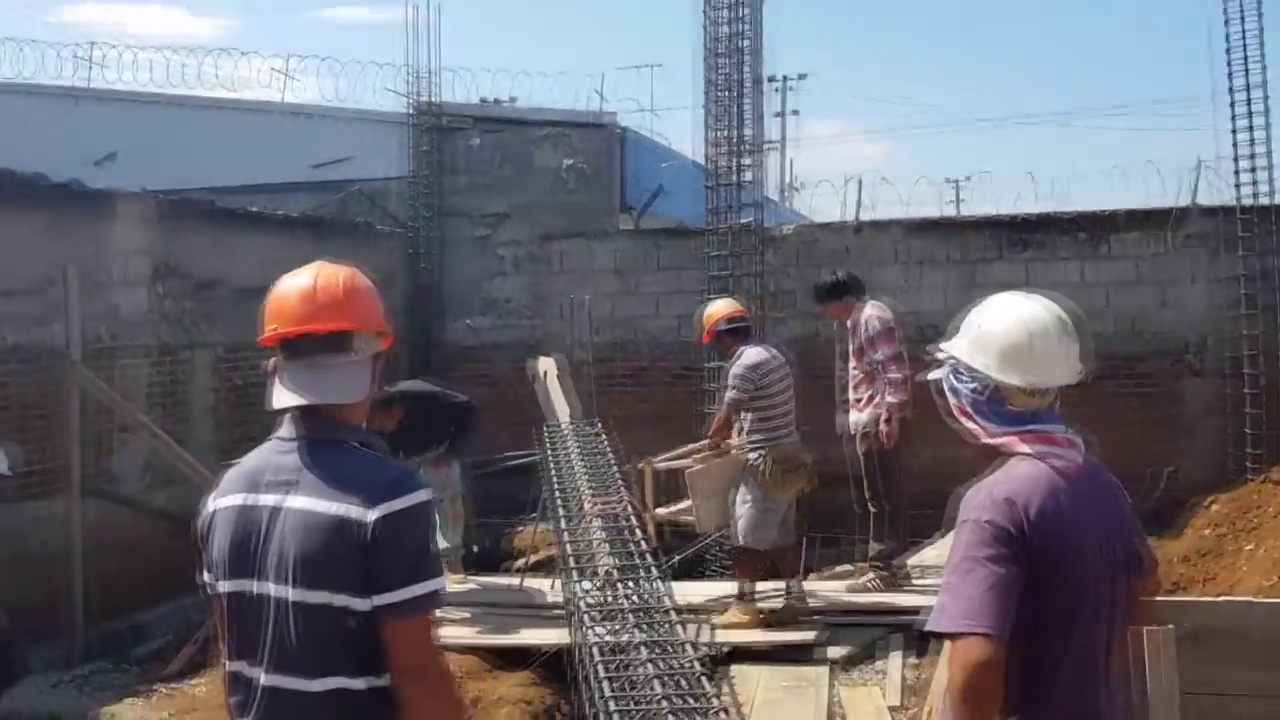helmet: (253, 251, 391, 365), (941, 295, 1089, 396), (696, 299, 756, 346)
helmet-off: (811, 273, 868, 324), (368, 386, 404, 437)
helmet-on: (919, 294, 1088, 452), (253, 255, 393, 442), (697, 298, 756, 366)
person: (188, 249, 453, 720), (902, 290, 1167, 720), (695, 294, 813, 617), (811, 273, 915, 593), (366, 375, 469, 584)
